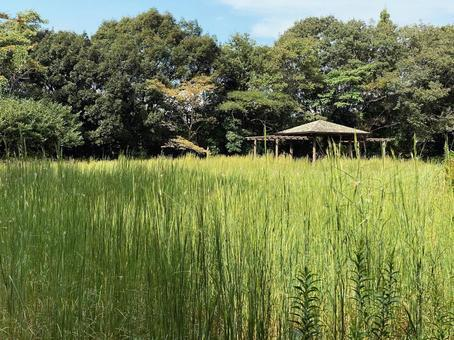overgrown grass: (0, 156, 453, 339)
